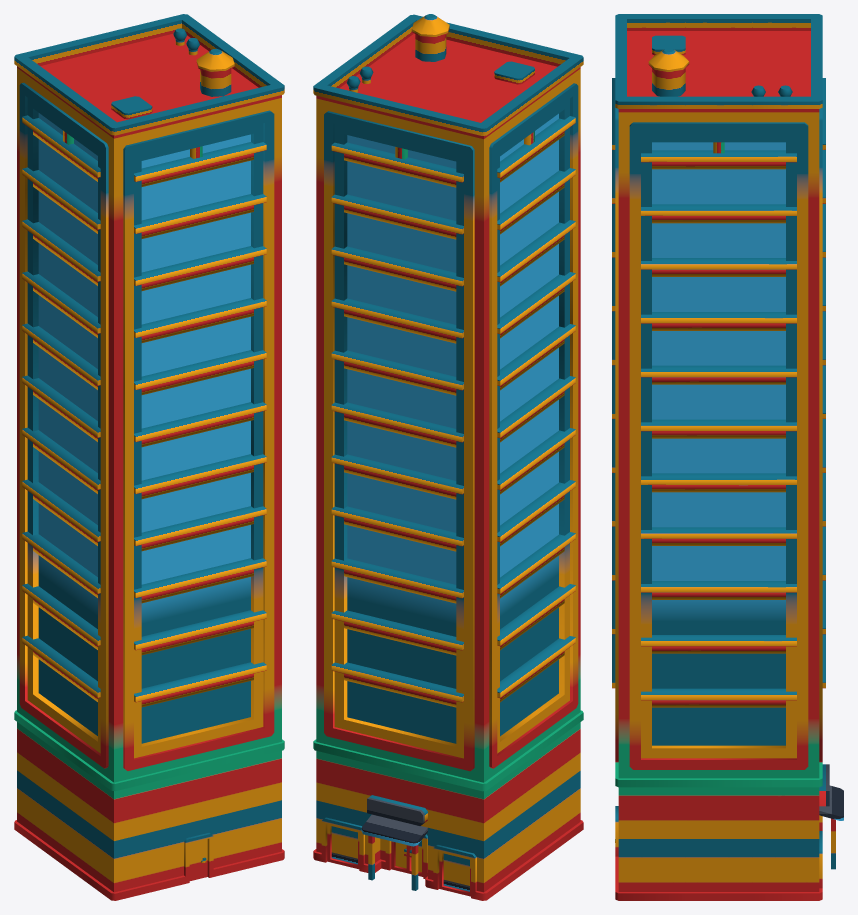
Rendered from building.glb.
The picture shows the model from 3 angles, left to right: view 1: azimuth 30°, elevation 25°; view 2: azimuth 150°, elevation 25°; view 3: azimuth 270°, elevation 25°; orthographic projection. The views are drawn at different scales.
Parts seen in each view (by area): view 1: building-skyscraper-d; view 2: building-skyscraper-d; view 3: building-skyscraper-d.
Part boxes in pixels (x1,y1,x2,y2): building-skyscraper-d: (14,14,284,900); building-skyscraper-d: (313,14,583,900); building-skyscraper-d: (612,14,843,900).
Bounding box in the file's own units: 1.28 × 5.47 × 1.39.
Materials: 1 (1 with a texture image).
